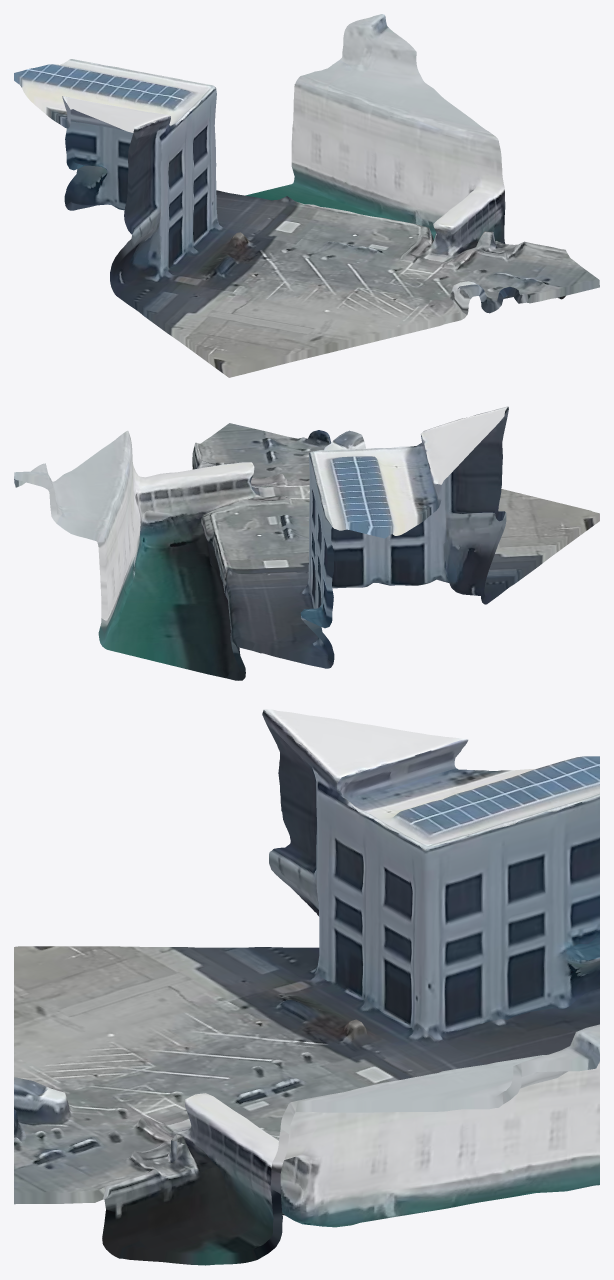
File: z20-167785-405211-h0-yup-uvflip-v3-world.glb
3 views of the same model, one above another, from view 1: azimuth 30°, elevation 25°; view 2: azimuth 150°, elevation 25°; view 3: azimuth 270°, elevation 25° (orthographic). The views are drawn at different scales.
Bounding box in the file's own units: 30.2 × 17.68 × 30.32.
1 material, 1 textured.
